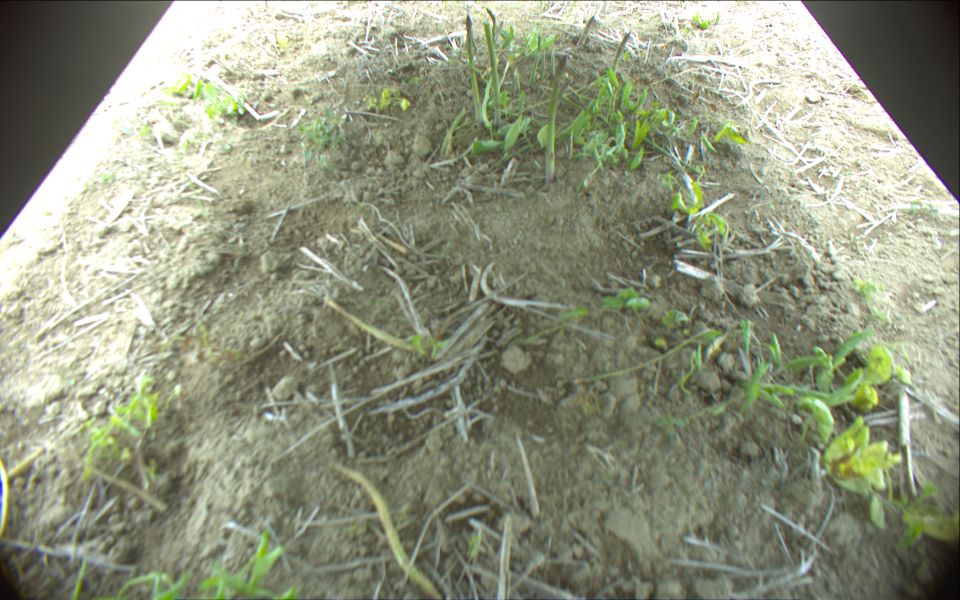aspa: (336, 464, 445, 600), (323, 293, 414, 353), (541, 56, 567, 187), (483, 21, 504, 126), (466, 15, 479, 124), (607, 30, 631, 84), (441, 108, 465, 153), (526, 35, 541, 90), (577, 16, 596, 47)
